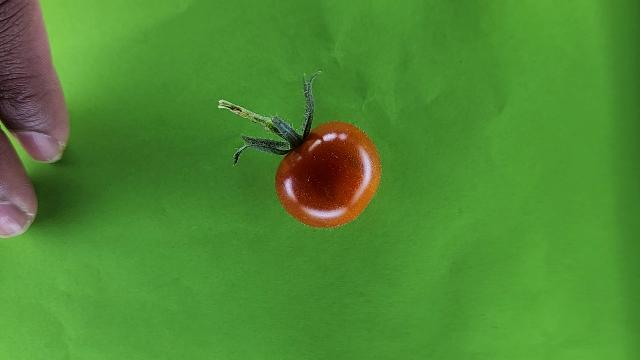Fully Grown: (272, 121, 384, 230)
